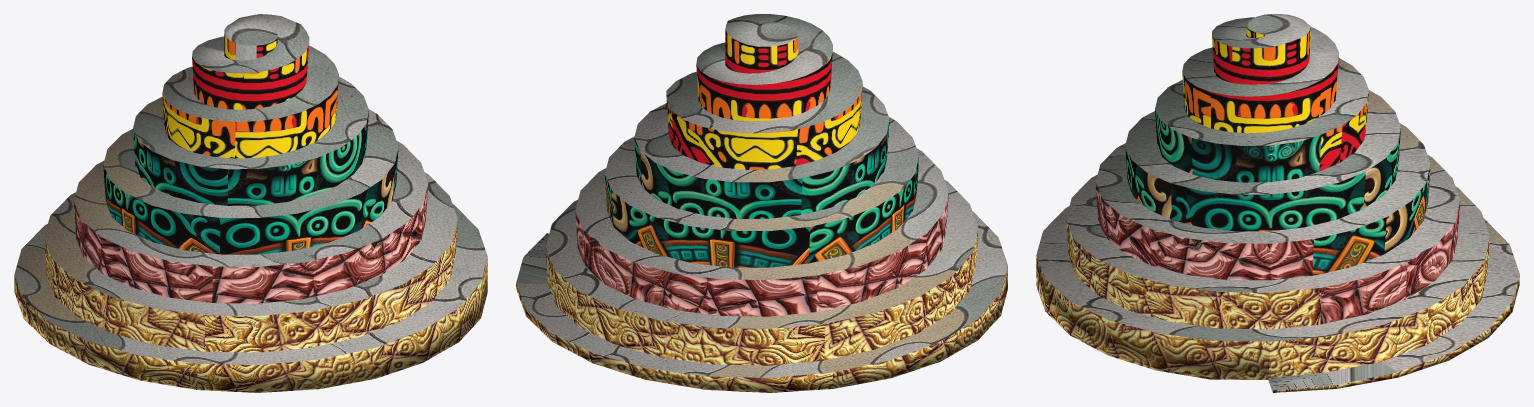
The model's file is tower2.fbx.
The picture shows the model from 3 angles, left to right: view 1: azimuth 30°, elevation 25°; view 2: azimuth 150°, elevation 25°; view 3: azimuth 270°, elevation 25°; orthographic projection.
Visible parts, largest first — view 1: Spiral.002; view 2: Spiral.002; view 3: Spiral.002.
Part boxes in pixels (x1,y1,x2,y2): Spiral.002: [14, 14, 487, 392]; Spiral.002: [516, 14, 1007, 392]; Spiral.002: [1036, 14, 1519, 392].
Size of the model in its own units: 3106 by 1802 by 3015.
6 materials, 5 textured.
